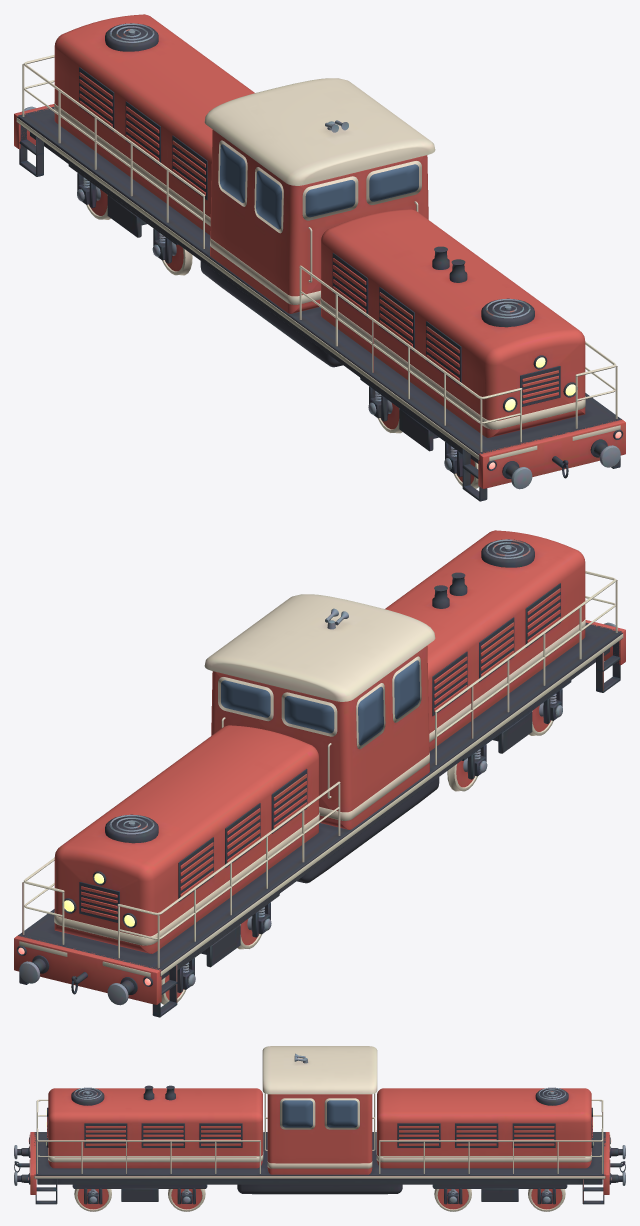
File: diesel-locomotive.glb
3 renders of one model, top to bottom at view 1: azimuth 30°, elevation 25°; view 2: azimuth 150°, elevation 25°; view 3: azimuth 270°, elevation 25°, orthographic. The views are drawn at different scales.
Visible parts, largest first — view 1: diesel-locomotive_body, diesel-locomotive_window_glass; view 2: diesel-locomotive_body, diesel-locomotive_window_glass; view 3: diesel-locomotive_body, diesel-locomotive_window_glass.
Part boxes in pixels (bbox=[...]): diesel-locomotive_body: bbox=[14, 14, 625, 501]; diesel-locomotive_window_glass: bbox=[220, 144, 418, 229]; diesel-locomotive_body: bbox=[14, 530, 625, 1017]; diesel-locomotive_window_glass: bbox=[221, 660, 419, 745]; diesel-locomotive_body: bbox=[14, 1046, 625, 1211]; diesel-locomotive_window_glass: bbox=[282, 1100, 357, 1127].
Bounding box in the file's own units: 2.92 × 4.43 × 17.
Materials: 4 (1 with a texture image).
